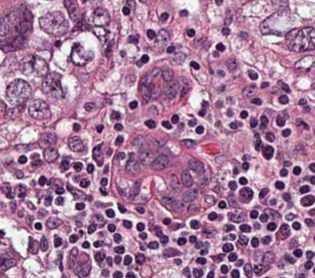nucleus: (260, 13, 292, 35), (39, 11, 68, 35), (287, 27, 314, 51), (41, 72, 63, 99), (72, 43, 92, 65), (28, 99, 50, 119), (31, 55, 47, 75), (92, 8, 109, 26), (64, 0, 78, 20), (39, 133, 56, 148), (164, 80, 178, 98), (155, 29, 168, 48), (152, 155, 168, 170), (68, 136, 83, 151), (295, 56, 313, 68), (43, 147, 57, 162), (198, 169, 209, 187), (126, 159, 140, 173), (139, 150, 152, 164), (183, 188, 197, 201), (170, 52, 185, 64), (93, 145, 102, 165), (277, 224, 289, 239), (181, 170, 192, 186), (239, 188, 252, 201), (188, 159, 202, 171), (46, 217, 61, 228), (129, 182, 139, 198), (243, 84, 256, 96), (149, 84, 160, 98), (29, 238, 39, 253), (93, 27, 106, 38), (262, 146, 273, 159), (170, 200, 183, 211), (170, 176, 180, 190), (71, 189, 85, 199), (229, 213, 244, 222), (148, 68, 160, 79), (162, 68, 172, 81), (300, 196, 313, 205), (265, 209, 278, 217), (279, 82, 289, 92), (93, 214, 103, 224), (227, 58, 236, 69), (182, 139, 194, 147), (225, 11, 232, 24), (40, 237, 47, 250), (145, 119, 155, 128), (238, 235, 247, 245), (161, 197, 172, 205), (187, 204, 198, 212), (239, 224, 250, 232), (248, 70, 257, 79), (279, 95, 288, 104), (73, 162, 82, 171), (259, 188, 268, 197), (84, 102, 94, 110), (276, 116, 284, 126), (31, 159, 41, 167), (79, 179, 89, 187), (88, 223, 96, 233), (105, 43, 111, 56), (160, 12, 168, 21), (128, 35, 137, 43), (190, 61, 199, 69), (126, 75, 134, 84), (111, 111, 120, 119), (261, 115, 267, 127), (162, 120, 171, 128), (300, 120, 308, 129), (266, 132, 274, 141), (115, 136, 123, 145), (38, 176, 46, 185), (275, 181, 284, 189), (300, 185, 309, 193), (205, 196, 214, 204), (190, 220, 199, 228), (267, 222, 276, 230), (261, 236, 270, 244), (255, 136, 260, 150), (61, 159, 68, 169), (230, 122, 241, 128), (45, 194, 51, 205), (147, 30, 155, 38), (106, 209, 114, 217), (69, 234, 77, 242), (160, 235, 168, 243), (55, 187, 64, 194), (135, 206, 144, 213), (285, 213, 294, 220), (224, 224, 233, 231), (54, 237, 61, 246), (251, 237, 258, 246), (148, 241, 157, 248), (181, 85, 187, 95), (251, 98, 261, 104), (122, 6, 129, 14), (195, 38, 203, 45), (216, 43, 224, 50), (140, 55, 148, 62), (171, 115, 178, 123), (73, 123, 80, 131), (114, 123, 122, 130), (282, 129, 290, 136), (293, 166, 300, 174), (229, 181, 236, 189), (282, 193, 290, 200), (55, 197, 63, 204), (118, 204, 125, 212), (250, 210, 257, 218), (208, 212, 216, 219), (260, 213, 267, 221), (305, 219, 313, 226), (123, 220, 131, 227), (137, 222, 144, 230), (292, 222, 300, 229), (114, 234, 121, 242), (177, 237, 185, 244), (224, 234, 235, 239), (250, 118, 256, 127), (75, 203, 84, 209), (222, 27, 229, 34), (187, 29, 194, 36), (129, 101, 136, 108), (240, 111, 247, 118), (188, 119, 195, 126), (196, 126, 203, 133), (117, 152, 124, 159), (280, 169, 287, 176), (239, 177, 246, 184), (100, 178, 107, 185), (218, 201, 225, 208), (34, 222, 41, 229), (108, 224, 115, 231), (82, 241, 89, 248), (87, 164, 93, 172), (94, 241, 102, 247), (309, 163, 314, 172), (167, 46, 174, 52), (96, 125, 102, 132), (242, 162, 248, 169), (100, 187, 106, 194), (163, 218, 170, 224), (202, 101, 208, 107), (198, 109, 204, 115), (190, 236, 196, 242), (195, 242, 201, 248), (180, 10, 187, 15), (261, 82, 268, 87), (139, 233, 146, 238), (55, 40, 60, 46), (218, 70, 224, 75), (299, 99, 305, 104), (31, 154, 38, 158), (310, 176, 314, 183), (216, 101, 221, 106), (227, 110, 232, 115), (270, 199, 275, 204), (104, 165, 107, 172), (120, 51, 124, 56), (213, 52, 218, 56), (309, 209, 313, 214), (255, 224, 259, 228), (216, 1, 221, 4), (234, 168, 237, 173), (79, 230, 82, 235), (108, 149, 110, 154)
